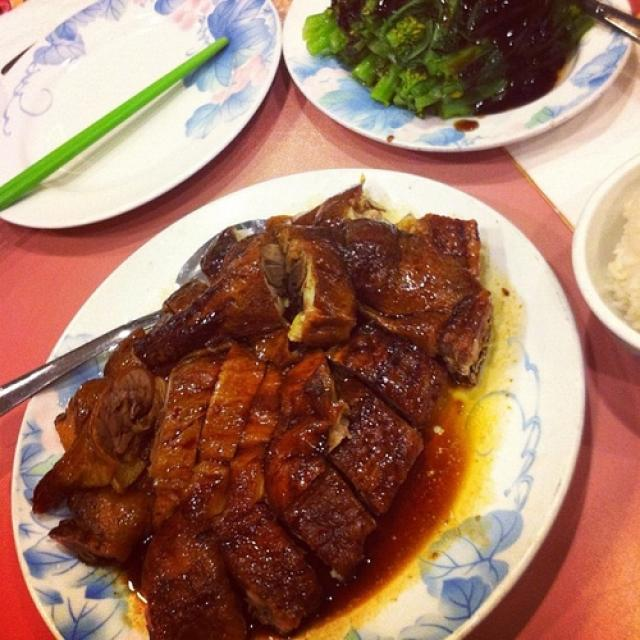烧串烤肉: (23, 167, 559, 628)
